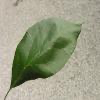Apple leaf: (7, 16, 87, 89)
